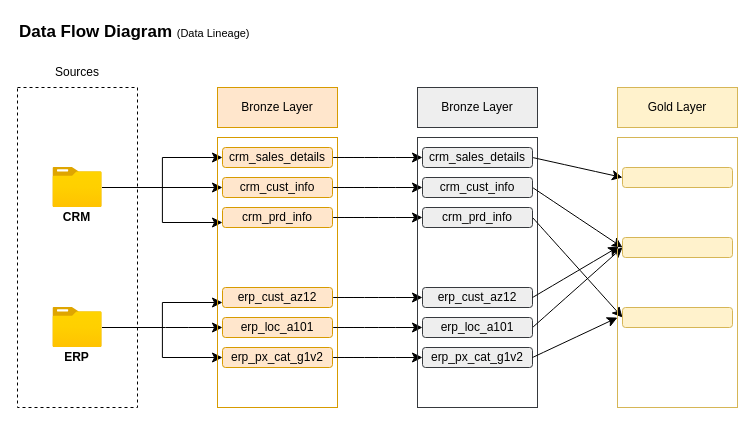
Some shapes in this 755 by 425 pixel diagram are drawn without their labels. The shapes that lost their labels are listed below. From the top down, each one's box as (x1, y1, x2, y2) in pixels, then its label:
(622, 166, 732, 188): fact_sales
(622, 236, 732, 258): dim_customer
(622, 306, 732, 328): dim_products
